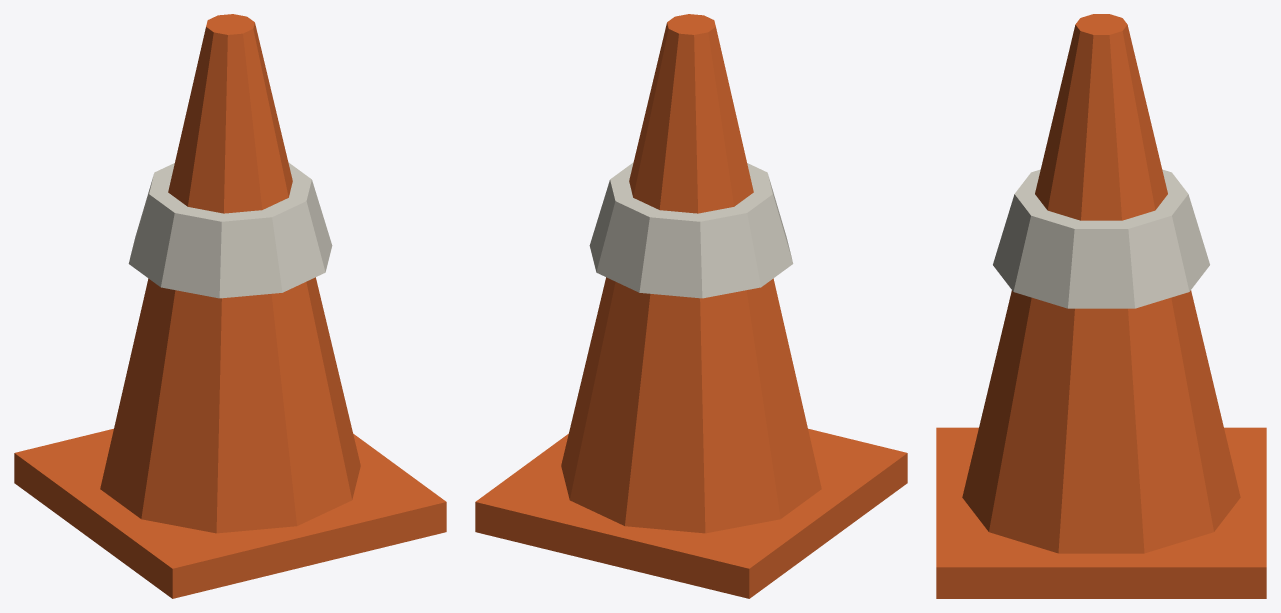
File: Traffic_Cone.fbx
3 renders of one model, left to right at view 1: azimuth 30°, elevation 25°; view 2: azimuth 150°, elevation 25°; view 3: azimuth 270°, elevation 25°, orthographic. The views are drawn at different scales.
Visible parts, largest first — view 1: Traffic_Cone; view 2: Traffic_Cone; view 3: Traffic_Cone.
Part boxes in pixels (left/top/right/bottom): Traffic_Cone: left=14, top=14, right=446, bottom=598; Traffic_Cone: left=475, top=14, right=907, bottom=598; Traffic_Cone: left=936, top=14, right=1266, bottom=598.
Bounding box in the file's own units: 0.38 × 0.64 × 0.38.
